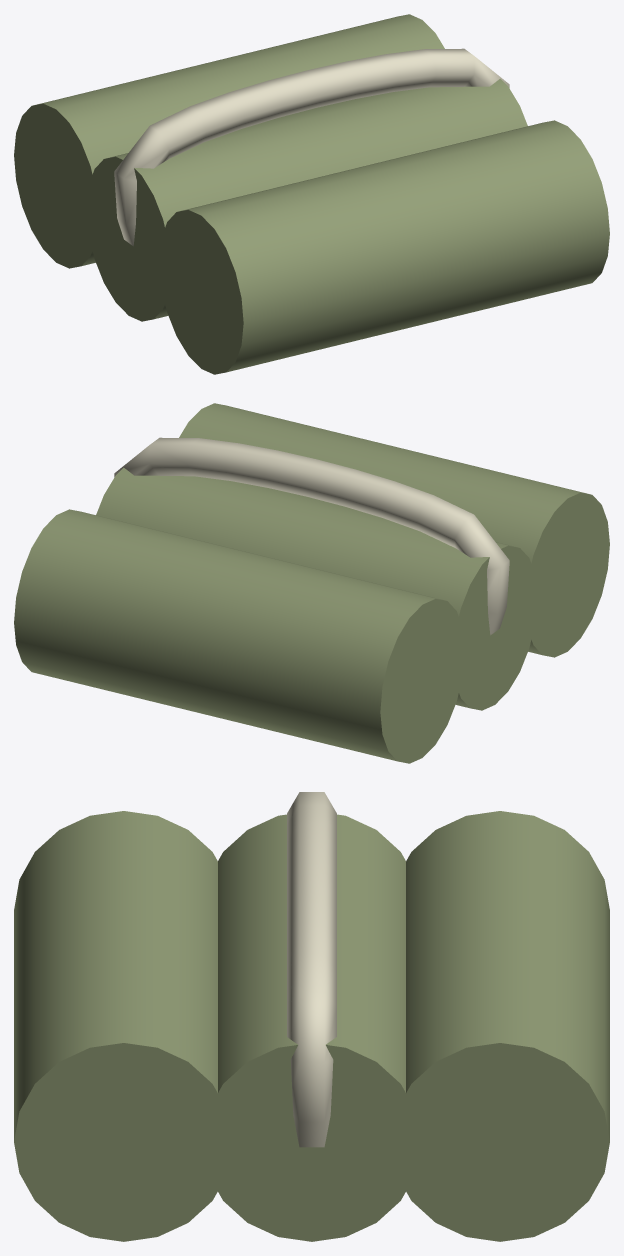
File: wilderness-survival-camp-headrest-bundle-b72d41e2__21947.glb
3 renders of one model, top to bottom at view 1: azimuth 30°, elevation 25°; view 2: azimuth 150°, elevation 25°; view 3: azimuth 270°, elevation 25°, orthographic. The views are drawn at different scales.
Parts seen in each view (by area): view 1: headrest-bundle; view 2: headrest-bundle; view 3: headrest-bundle.
Part boxes in pixels (x1,y1,x2,y2): headrest-bundle: (14, 14, 609, 374); headrest-bundle: (14, 403, 609, 763); headrest-bundle: (14, 792, 609, 1241).
Bounding box in the file's own units: 0.3688 × 0.1801 × 0.38.
